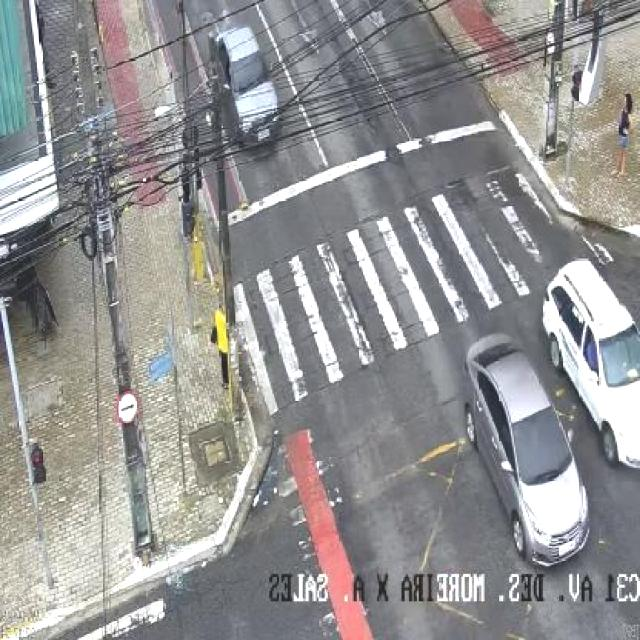Car: (465, 330, 597, 566), (540, 260, 640, 467), (210, 20, 294, 152), (639, 184, 640, 184)
